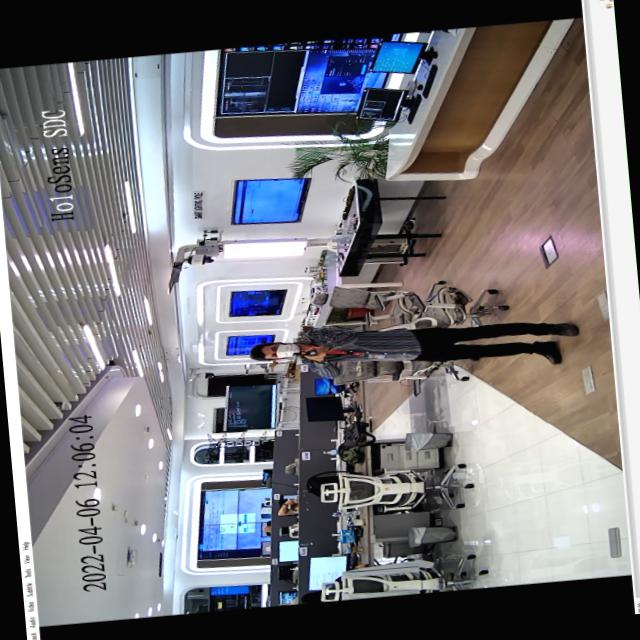long weapon: (287, 343, 324, 360)
